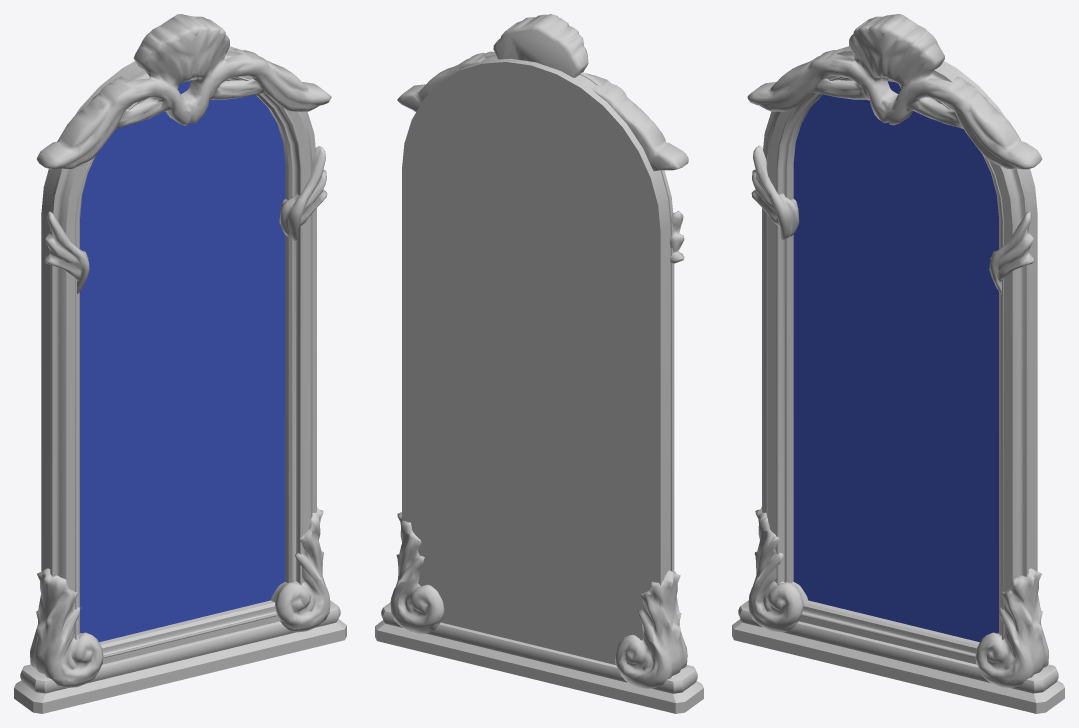
The picture shows the model from 3 angles, left to right: view 1: azimuth 30°, elevation 25°; view 2: azimuth 150°, elevation 25°; view 3: azimuth 330°, elevation 25°; orthographic projection.
Visible parts, largest first — view 1: Portal_frame_low (×2), Portal_top_low, Portal_base_low, Portal_swhirl_low, Portal_wings_low; view 2: Portal_frame_low, Portal_base_low, Portal_swhirl_low, Portal_top_low, Portal_wings_low; view 3: Portal_frame_low (×2), Portal_top_low, Portal_base_low, Portal_swhirl_low, Portal_wings_low.
Part boxes in pixels (bbox=[...]): Portal_frame_low (×2): bbox=[41, 46, 316, 664]; Portal_top_low: bbox=[36, 14, 331, 169]; Portal_base_low: bbox=[14, 600, 346, 713]; Portal_swhirl_low: bbox=[30, 507, 330, 687]; Portal_wings_low: bbox=[44, 146, 327, 293]; Portal_frame_low: bbox=[402, 53, 674, 664]; Portal_base_low: bbox=[375, 602, 703, 713]; Portal_swhirl_low: bbox=[390, 512, 687, 688]; Portal_top_low: bbox=[397, 14, 688, 171]; Portal_wings_low: bbox=[670, 210, 684, 263]; Portal_frame_low (×2): bbox=[762, 46, 1037, 664]; Portal_top_low: bbox=[747, 14, 1042, 169]; Portal_base_low: bbox=[732, 600, 1064, 713]; Portal_swhirl_low: bbox=[748, 507, 1048, 687]; Portal_wings_low: bbox=[751, 145, 1034, 293].
Size of the model in its own units: 144 by 286 by 24.74.
